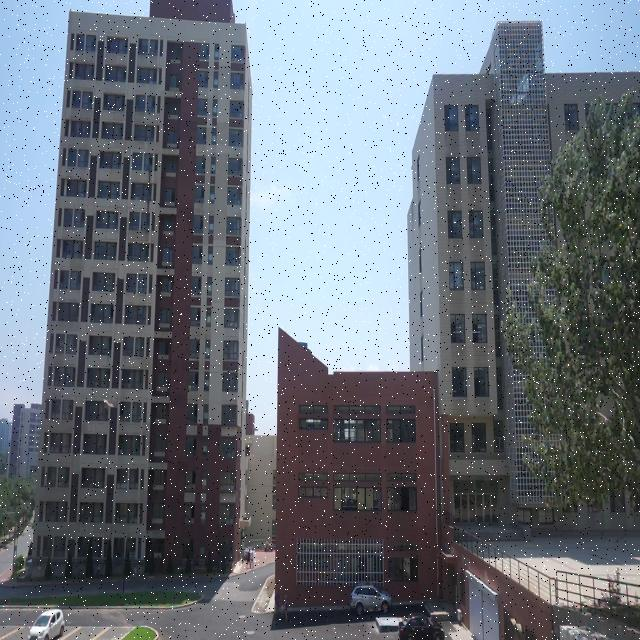UAV: (103, 399, 115, 409)
